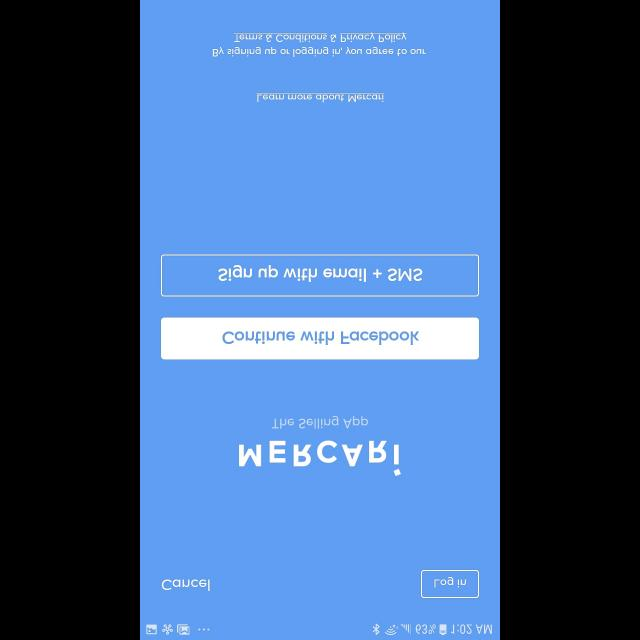image: (239, 439, 401, 476)
text: (212, 32, 426, 58), (272, 415, 368, 429), (256, 93, 384, 103), (162, 579, 210, 591)
textbutton: (161, 317, 479, 359), (161, 254, 479, 296), (420, 570, 480, 598)
uppertaskbar: (140, 622, 500, 640)
